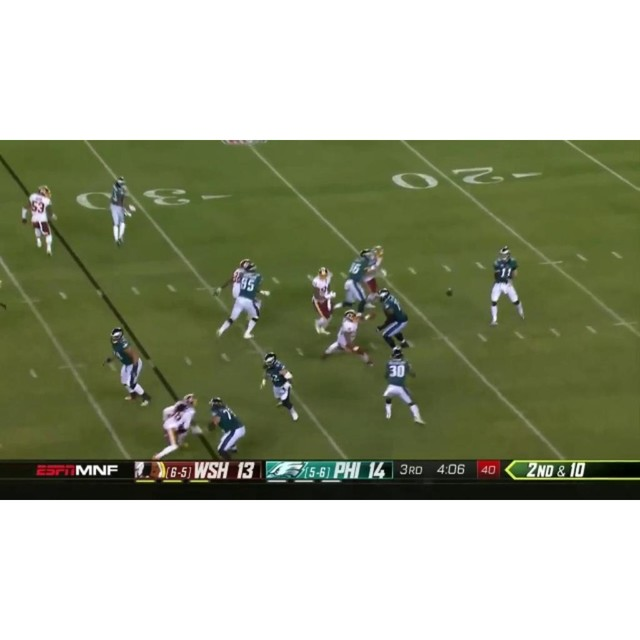american-football-player: (214, 260, 266, 342), (105, 328, 151, 407), (382, 348, 425, 425), (154, 393, 200, 459), (488, 247, 526, 326), (259, 352, 300, 421), (322, 310, 373, 365), (336, 249, 373, 320), (207, 396, 246, 460), (23, 186, 56, 256), (375, 289, 411, 351), (310, 268, 338, 335), (108, 175, 132, 248), (360, 246, 386, 305)
